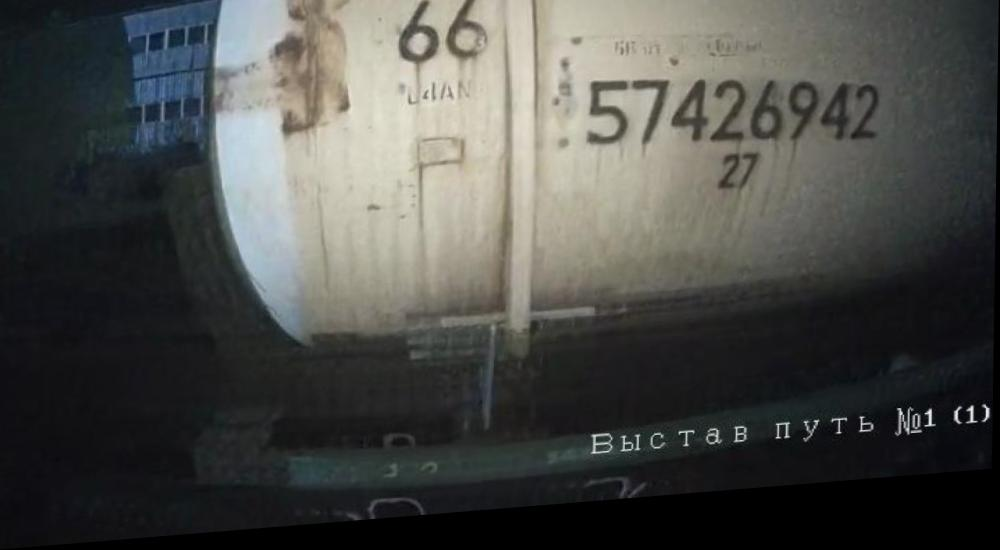Wagon-number: (582, 68, 885, 178)
